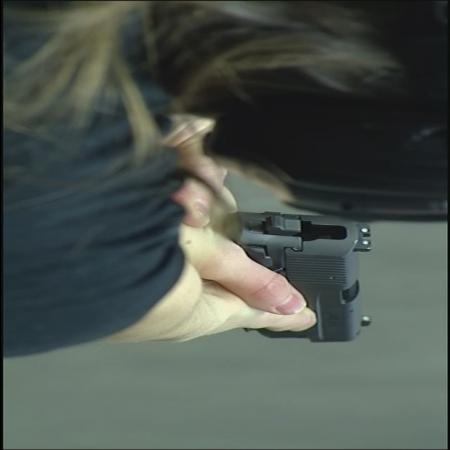Pistol: (223, 204, 372, 349)
